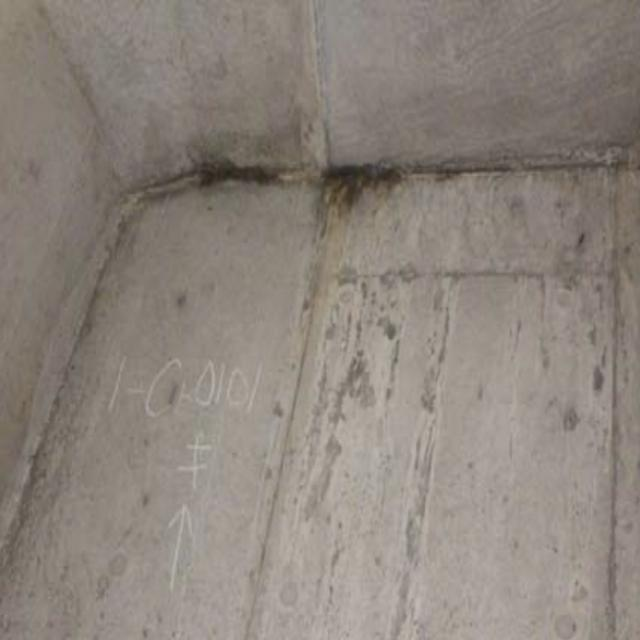leakage: (186, 130, 407, 224)
